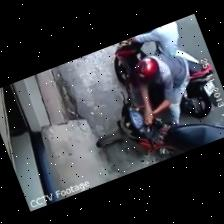person: (129, 54, 190, 125), (127, 21, 199, 62)
